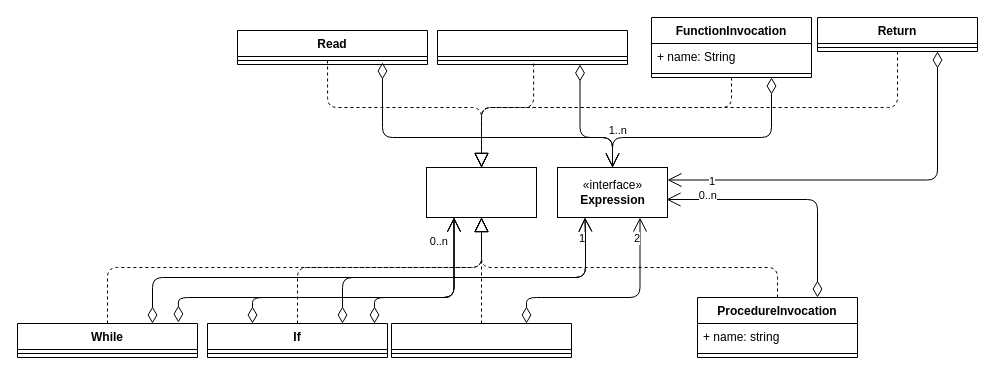
This 995x375 diagram has some shape labels left out. Each missing label, with the centre of its shape:
Assignment: point 481,340
Write: point 532,47
«interface» Statement: point 481,192
